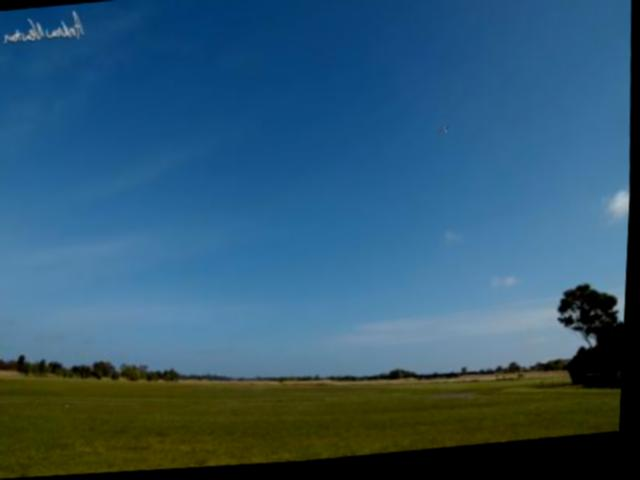uav: (437, 125, 456, 146)
